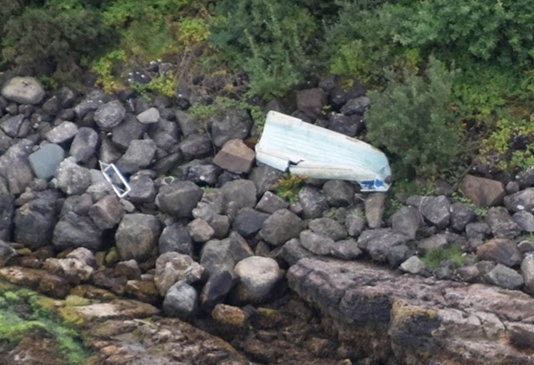boat_cabin: (246, 102, 396, 194)
cuboid: (99, 158, 139, 201)
